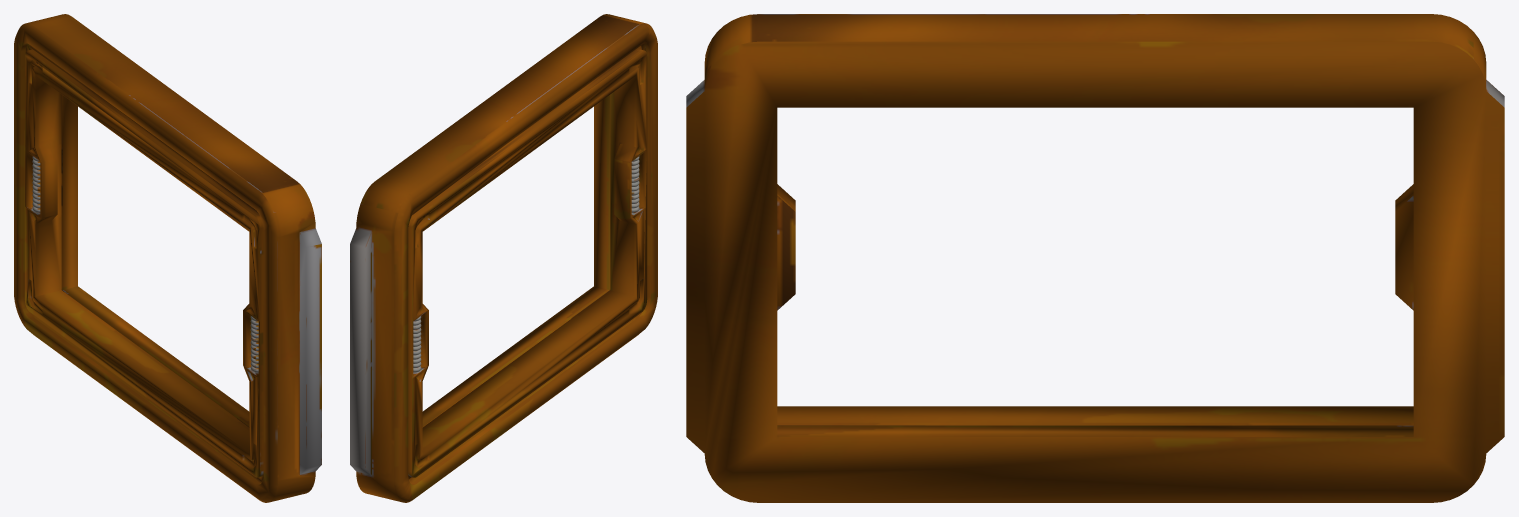
File: Metalsheet screen.glb
3 renders of one model, left to right at view 1: azimuth 30°, elevation 25°; view 2: azimuth 150°, elevation 25°; view 3: azimuth 270°, elevation 25°, orthographic. The views are drawn at different scales.
Visible parts, largest first — view 1: Metalsheet holder; view 2: Metalsheet holder; view 3: Metalsheet holder.
Boxes of the visible parts, left/top/right/bottom form: Metalsheet holder: left=14, top=14, right=321, bottom=502; Metalsheet holder: left=350, top=14, right=657, bottom=502; Metalsheet holder: left=686, top=14, right=1504, bottom=502.
Bounding box in the file's own units: 3.3 × 23.09 × 37.1.
1 material, 1 textured.
